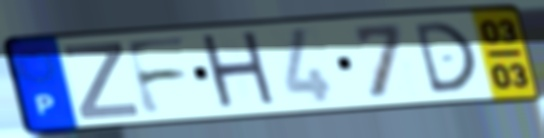4: (281, 24, 337, 108)
7: (351, 20, 409, 102)
D: (410, 19, 480, 97)
F: (121, 34, 192, 119)
H: (197, 28, 283, 114)
Z: (60, 40, 144, 122)
